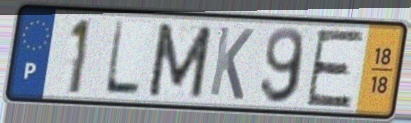1: (67, 16, 94, 96)
9: (258, 25, 308, 106)
E: (302, 28, 367, 110)
K: (206, 24, 256, 104)
L: (101, 17, 144, 98)
M: (144, 20, 215, 101)
